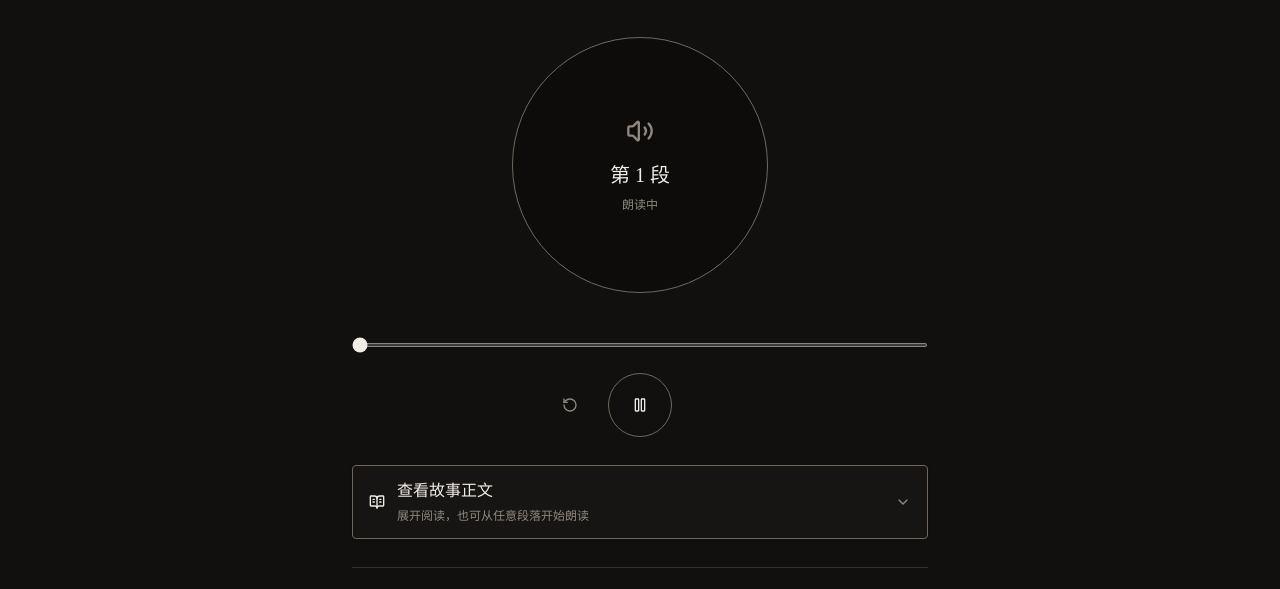
Test: StoryListeningExperience › does not let a silent-stall deadline reload a newer paragraph
Click the button "查看故事正文 展开阅读，也可从任意段落开始朗读" at (445,490), box x1=352 y1=465 x2=928 y2=539
(page scrolled)
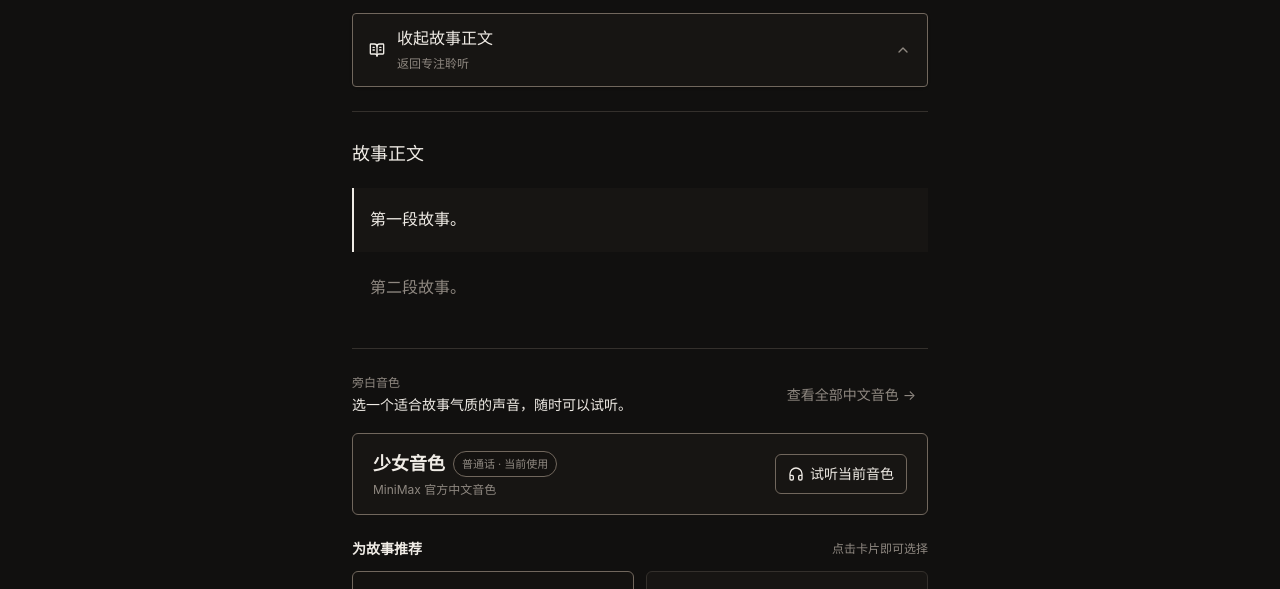
Click the button with aria-label "从第 2 段开始朗读" at (418,288), box x1=352 y1=256 x2=928 y2=320
Wait 8000 ms
(page scrolled)
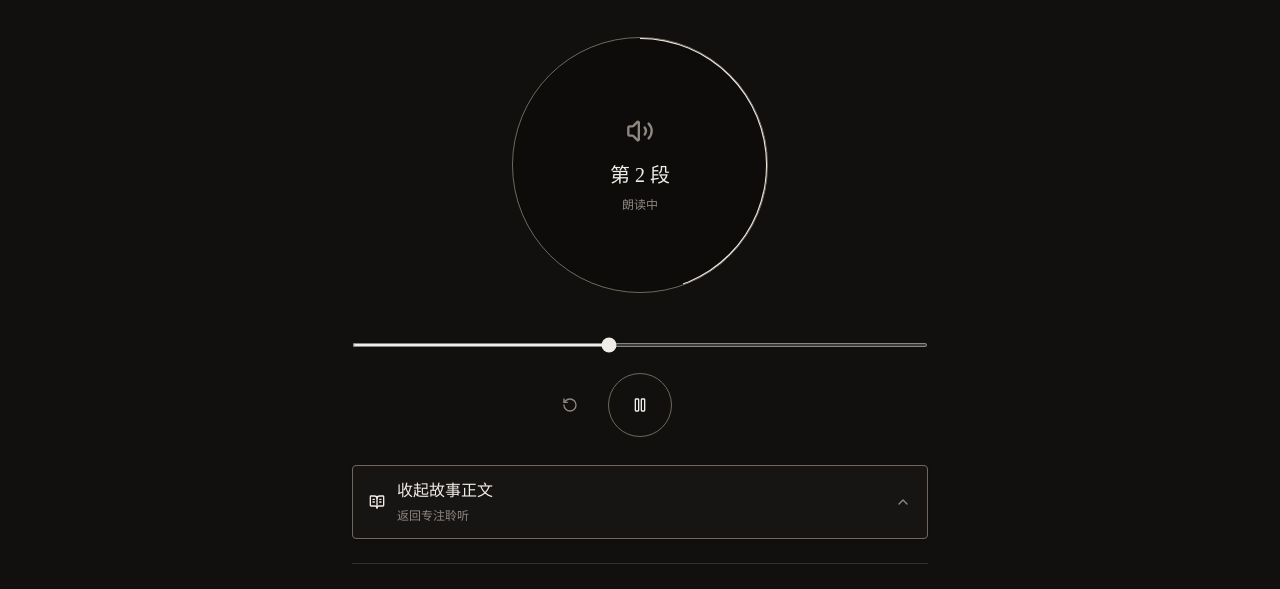
expect the text "第 2 段" is shown: met, box x1=610 y1=161 x2=670 y2=189
